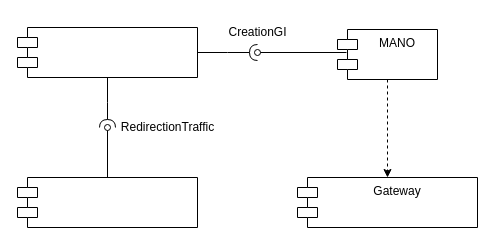
This 495x245 diagram has some shape labels left out. The box of each missing label's shape, as (x1, y1, x2, y2) in pixels:
GeneralController: (16, 26, 198, 78)
SDN_Ctrl: (16, 176, 198, 228)
